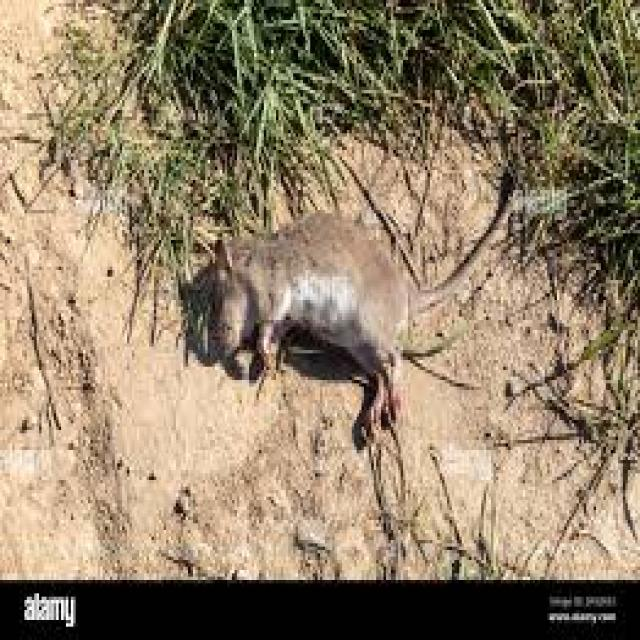rat: (193, 206, 413, 446)
